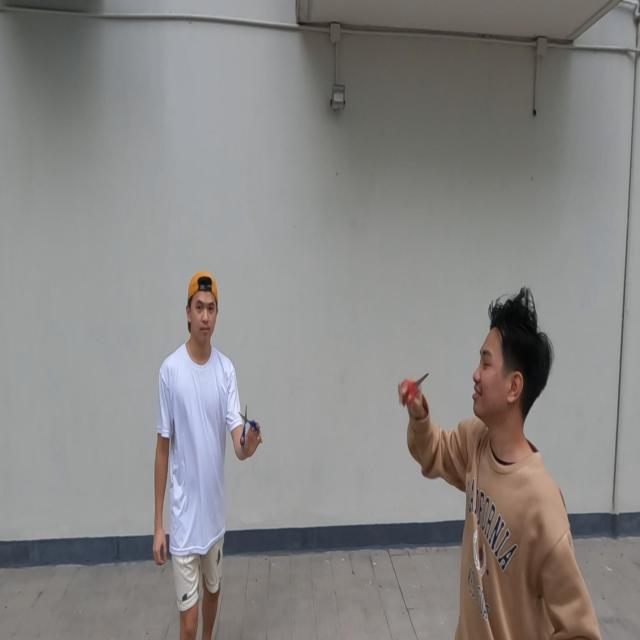scissor: (400, 372, 430, 408), (237, 403, 260, 447)
